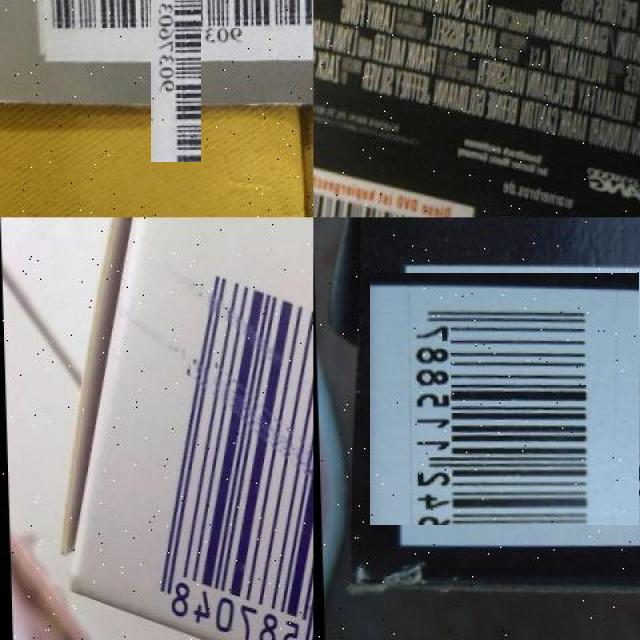Barcode: (113, 250, 313, 640), (378, 264, 640, 534), (94, 0, 257, 106), (313, 152, 476, 217)
